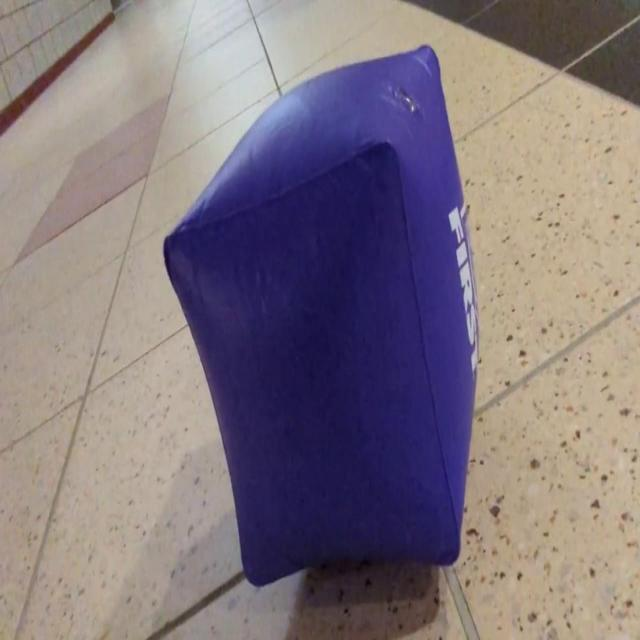frc_cube: (162, 46, 478, 590)
